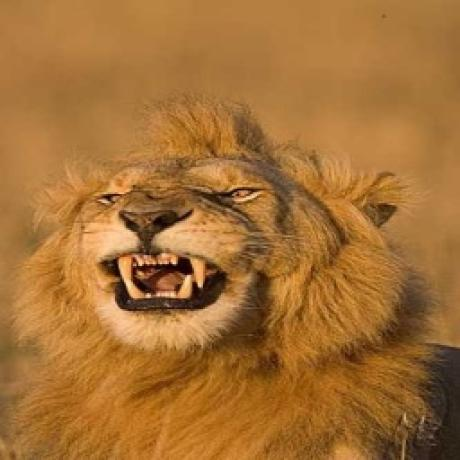Lion: (11, 93, 460, 460)
